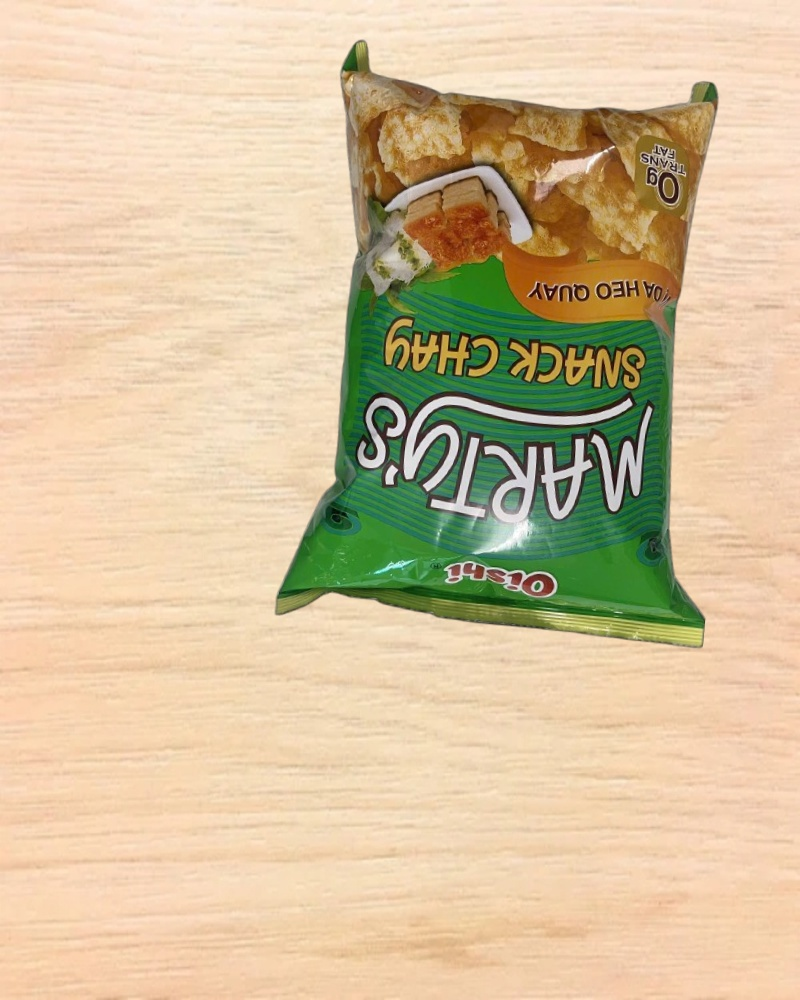Snack chay: (296, 41, 752, 653)
